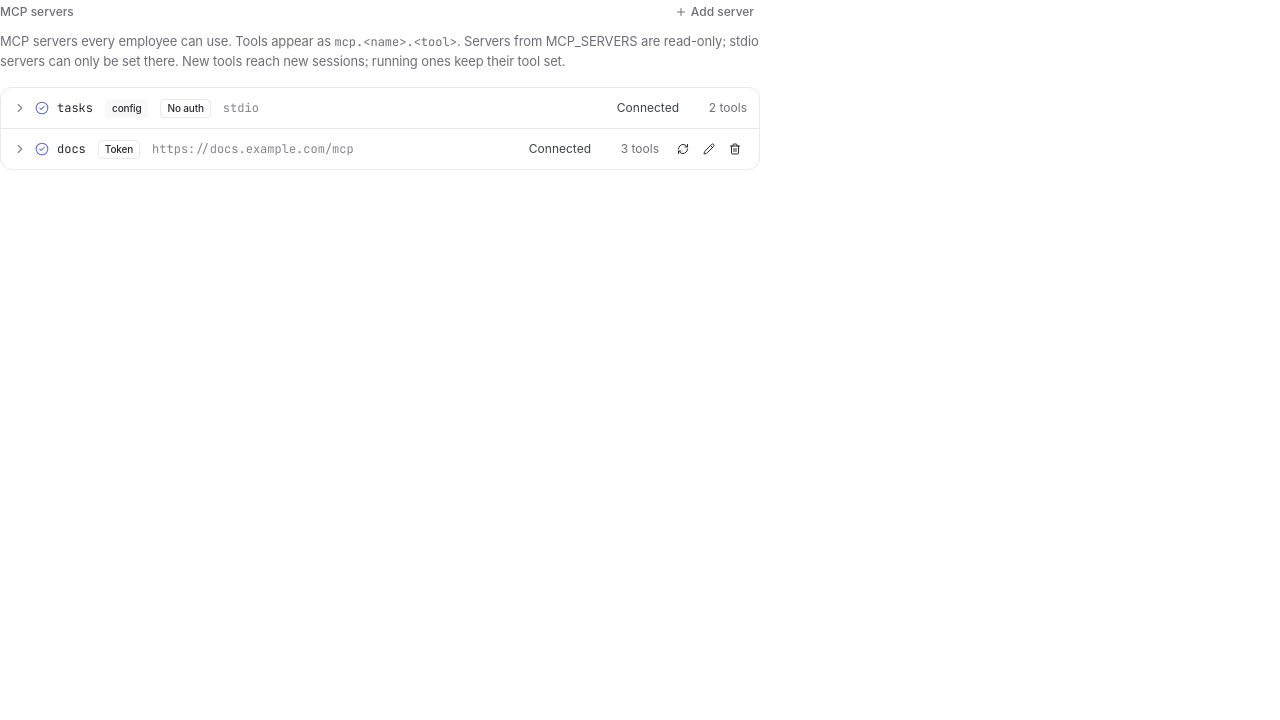
Scenario: MCP servers › shows validation errors inline
This screenshot has width=1280, height=720.
Step 1. Click the button "Add server" → point(714, 12), box 669,0 -> 760,24
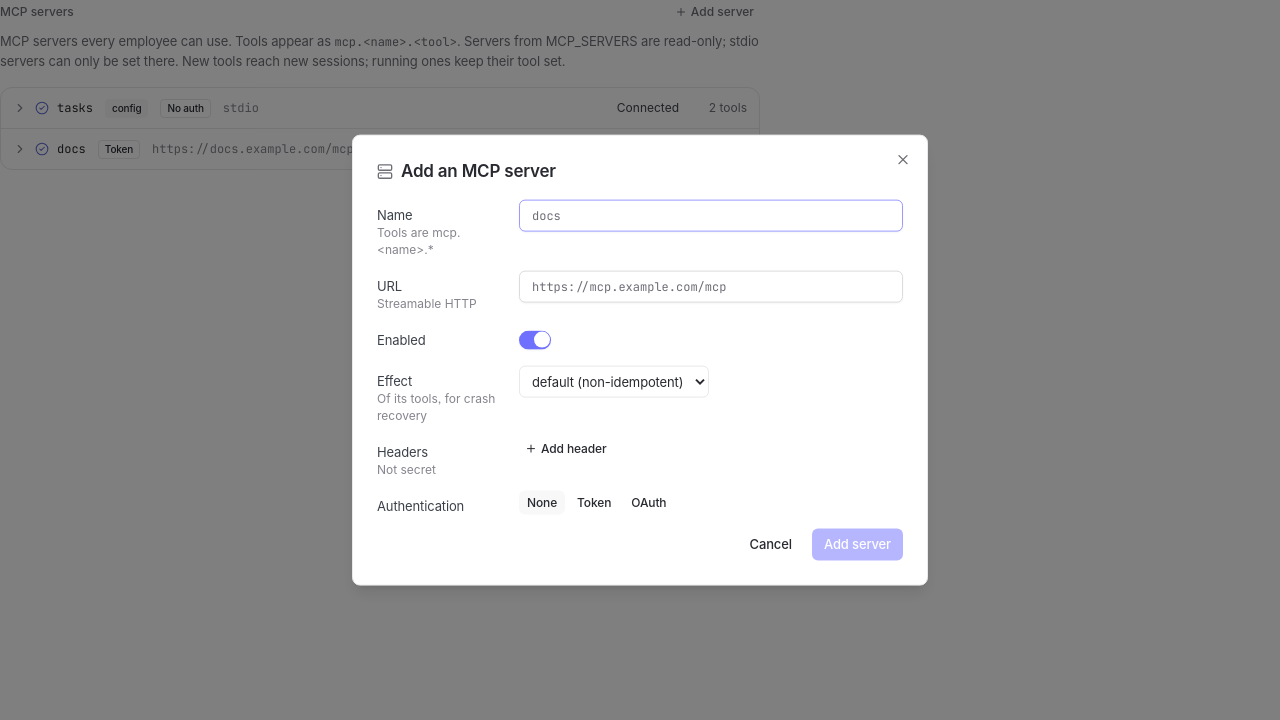
Step 2. Type "bad" into the field labelled "Name Tools are mcp.<name>.*" → point(711, 215), box 519,199 -> 903,231
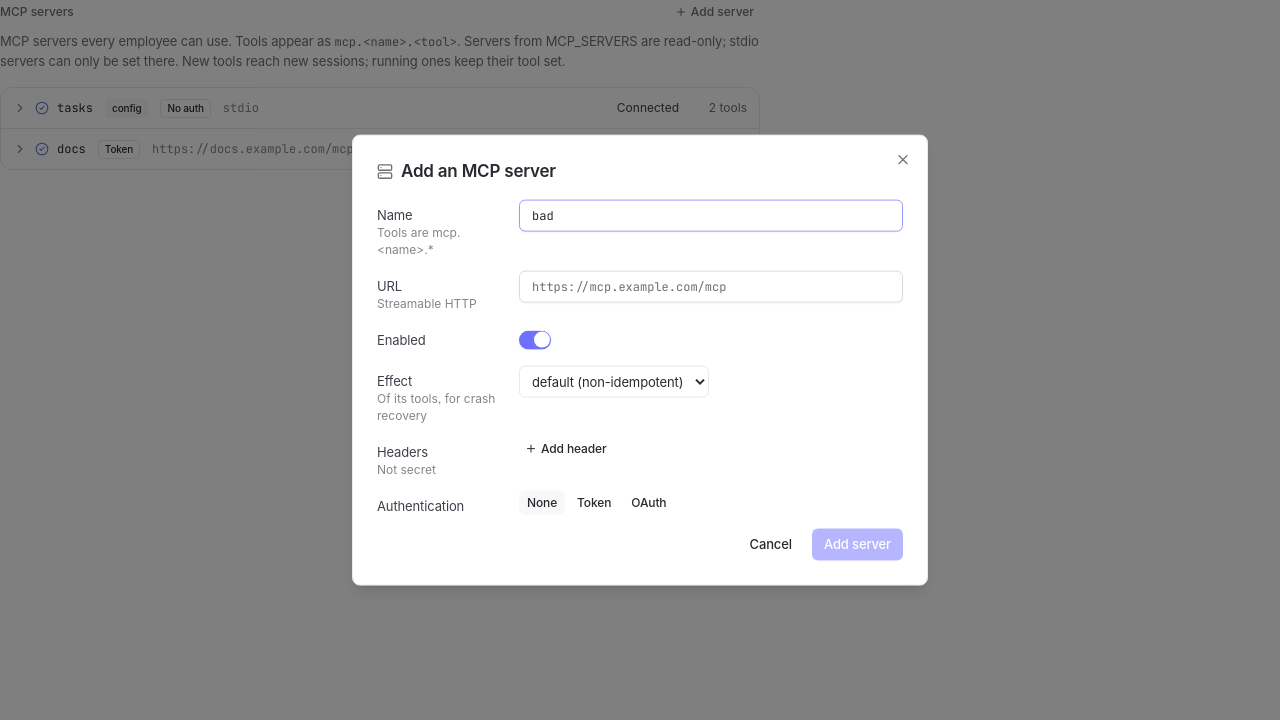
Step 3. Type "ftp://nope" into the field labelled "URL Streamable HTTP" → point(711, 286), box 519,270 -> 903,302
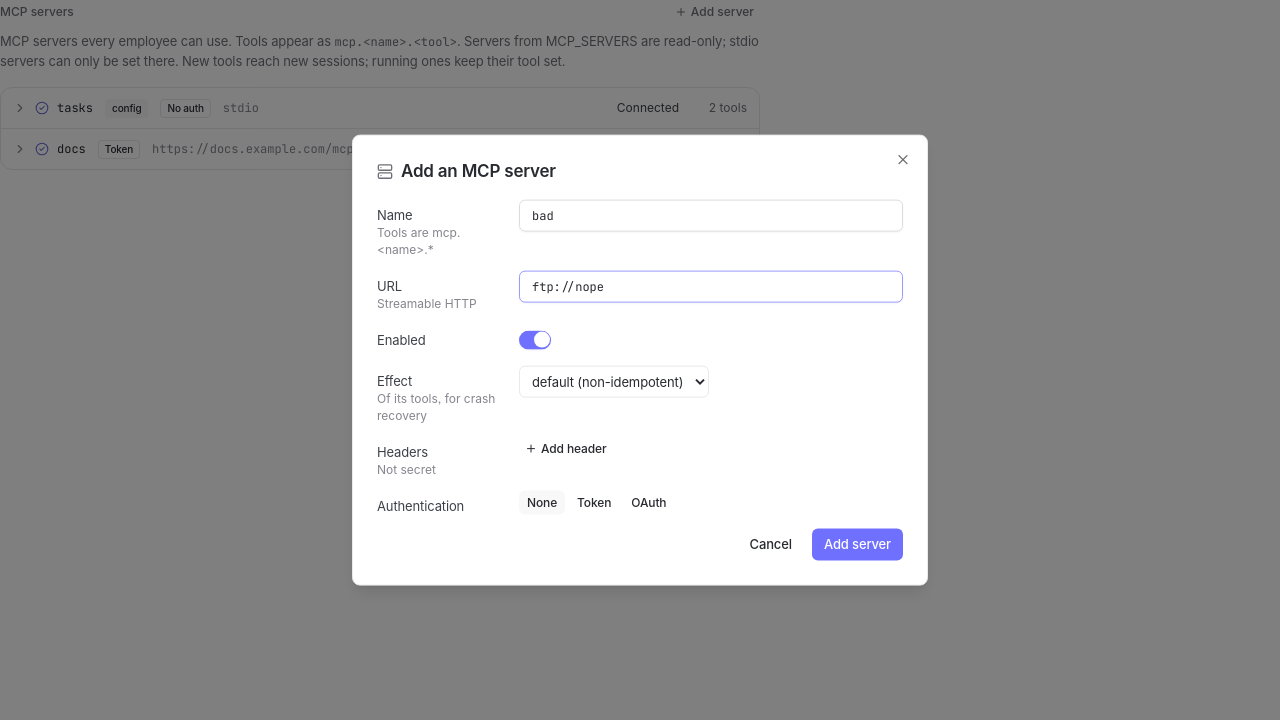
Step 4. Click the button "Add server" → point(857, 544), box 812,528 -> 903,560
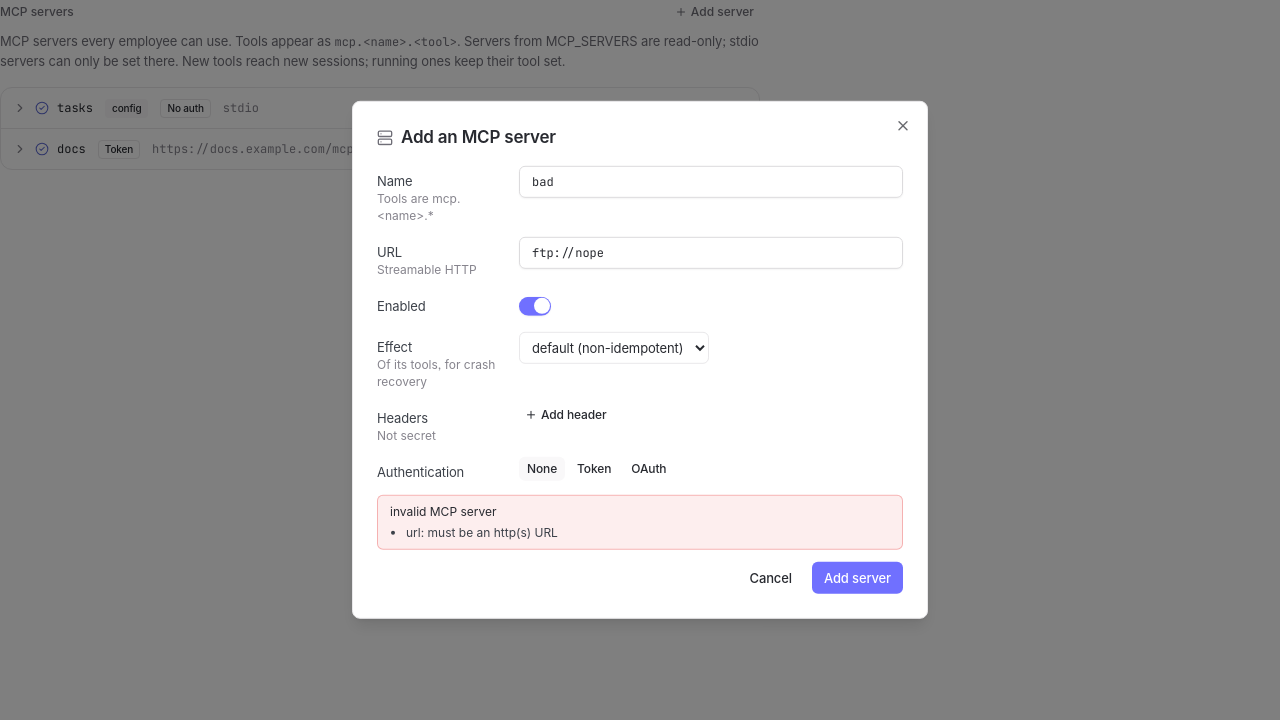
Now the message shows "url: must be an http(s) URL", box 406,524 -> 558,539
